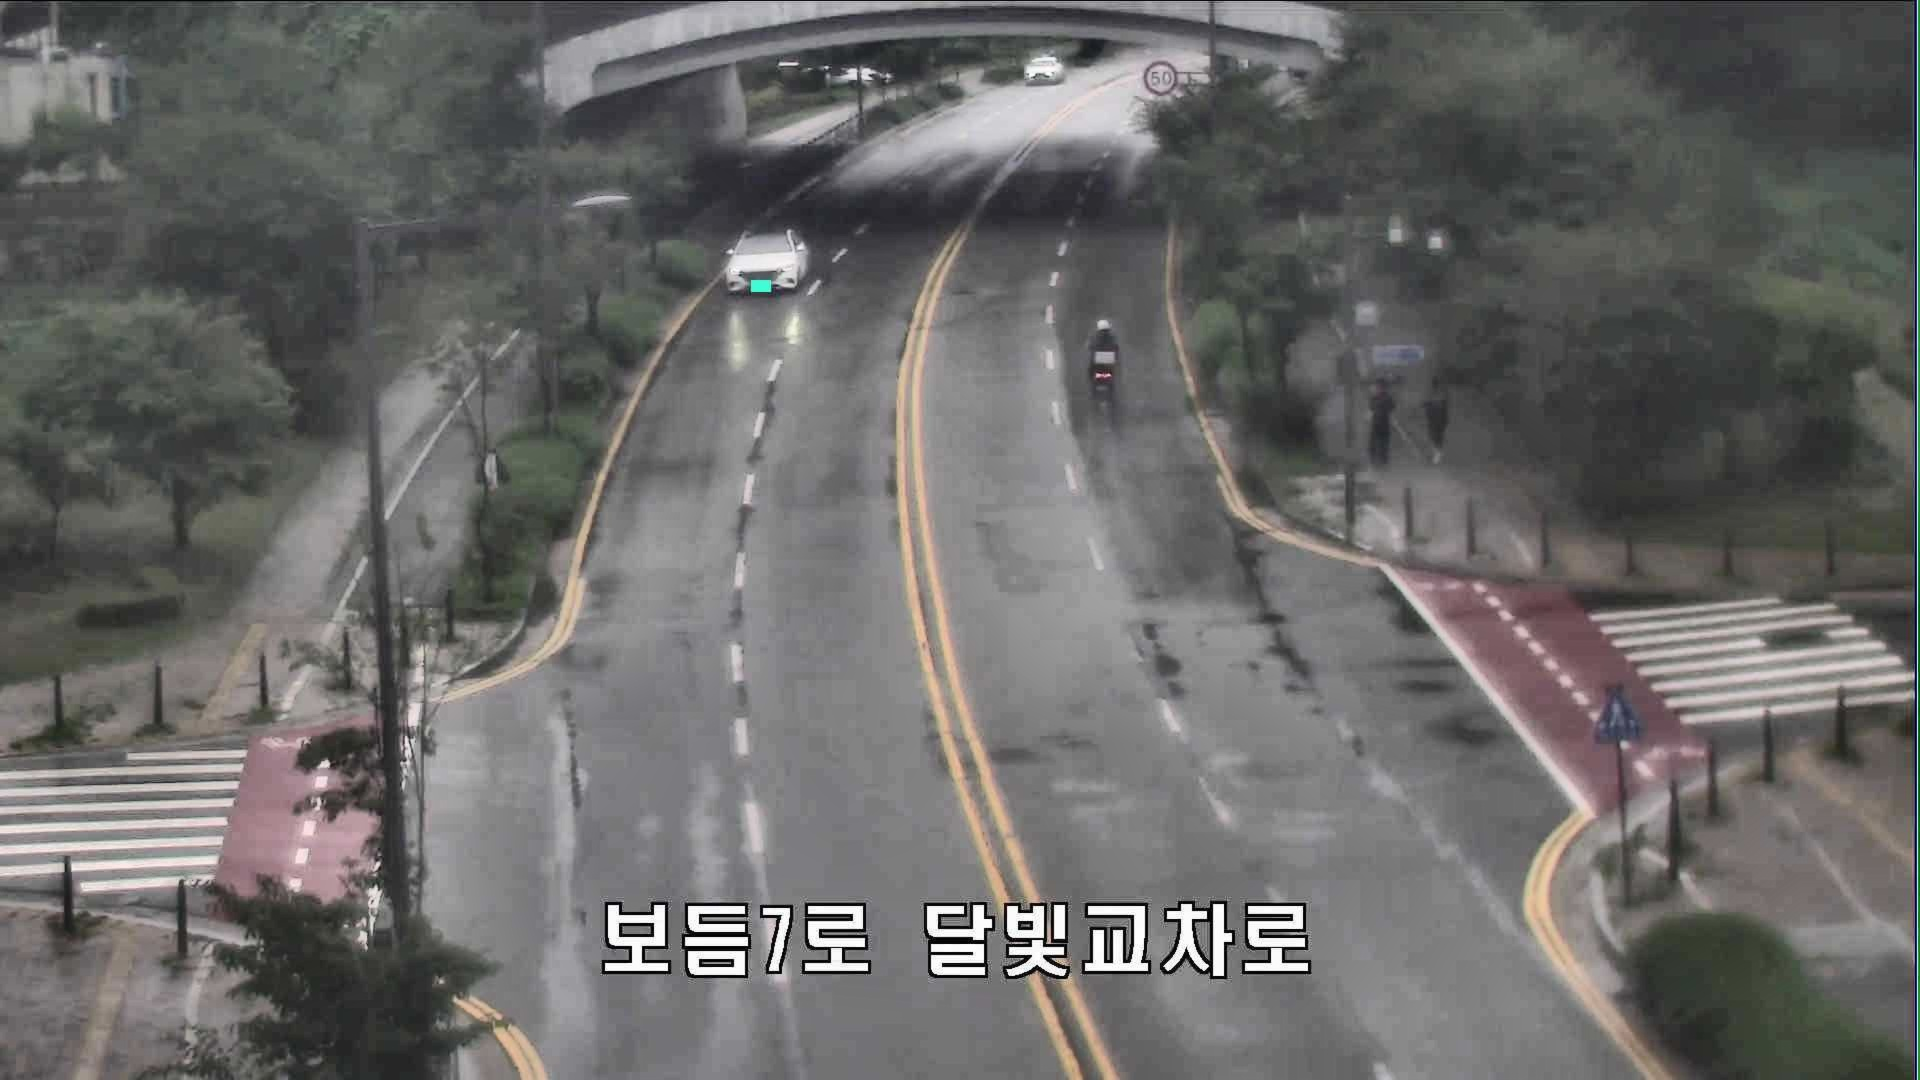um_sidewalk: (1423, 360, 1465, 464), (1361, 368, 1400, 463)
